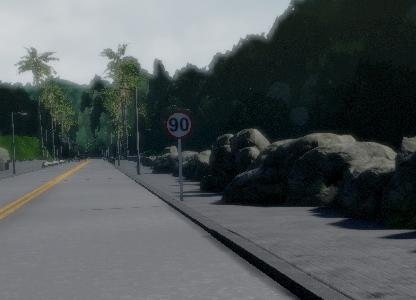Speed_90: (166, 110, 195, 140)
